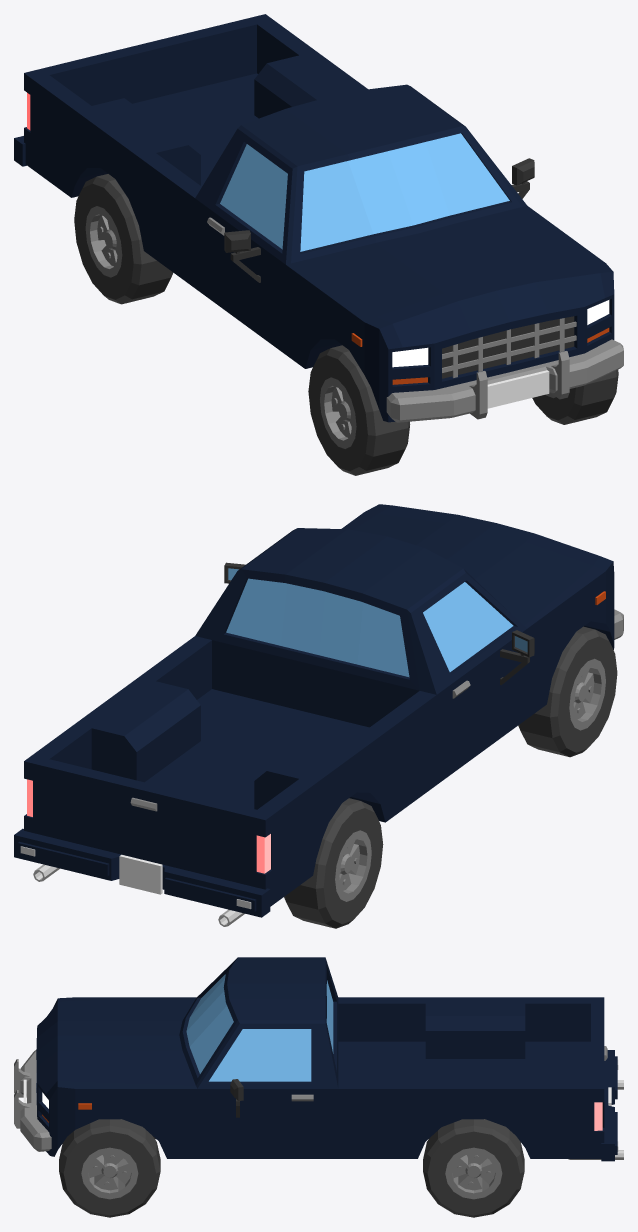
The model's file is low_poly_american_pickup_truck.glb.
3 views of the same model, one above another, from view 1: azimuth 30°, elevation 25°; view 2: azimuth 150°, elevation 25°; view 3: azimuth 270°, elevation 25° (orthographic). The views are drawn at different scales.
Parts seen in each view (by area): view 1: Car_4, FR_1, RR_3, FL_0; view 2: Car_4, FR_1, RR_3; view 3: Car_4, RL_2, FL_0.
Boxes of the visible parts, box(x1,y1,x2,y2) form: Car_4: box(14, 14, 623, 422); FR_1: box(308, 345, 410, 475); RR_3: box(74, 174, 173, 304); FL_0: box(532, 370, 618, 424); Car_4: box(14, 504, 623, 926); FR_1: box(518, 626, 617, 757); RR_3: box(284, 798, 383, 928); Car_4: box(14, 957, 623, 1161); RL_2: box(423, 1119, 524, 1217); FL_0: box(59, 1119, 160, 1217).
Size of the model in its own units: 2.07 by 1.55 by 4.56.
